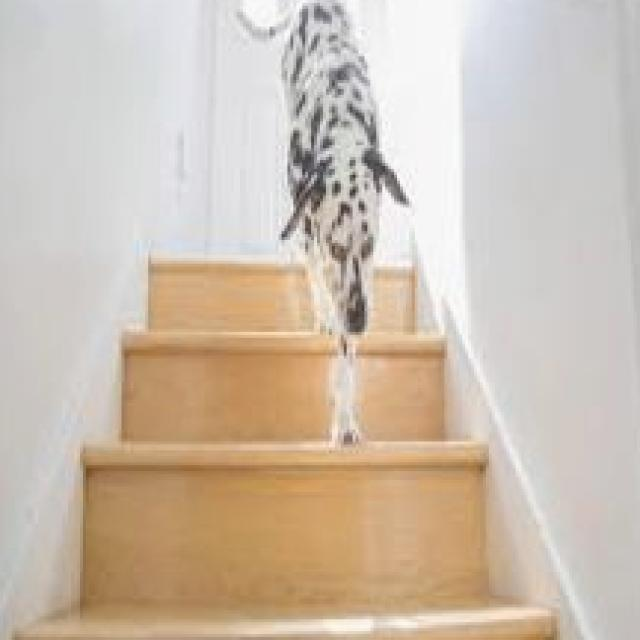upstair: (66, 327, 493, 594)
